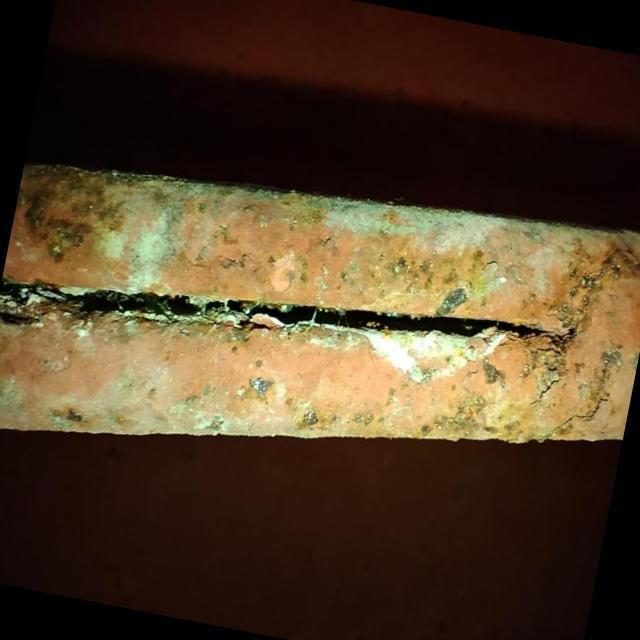defect: (1, 272, 548, 348), (552, 394, 611, 433), (525, 373, 563, 410)
